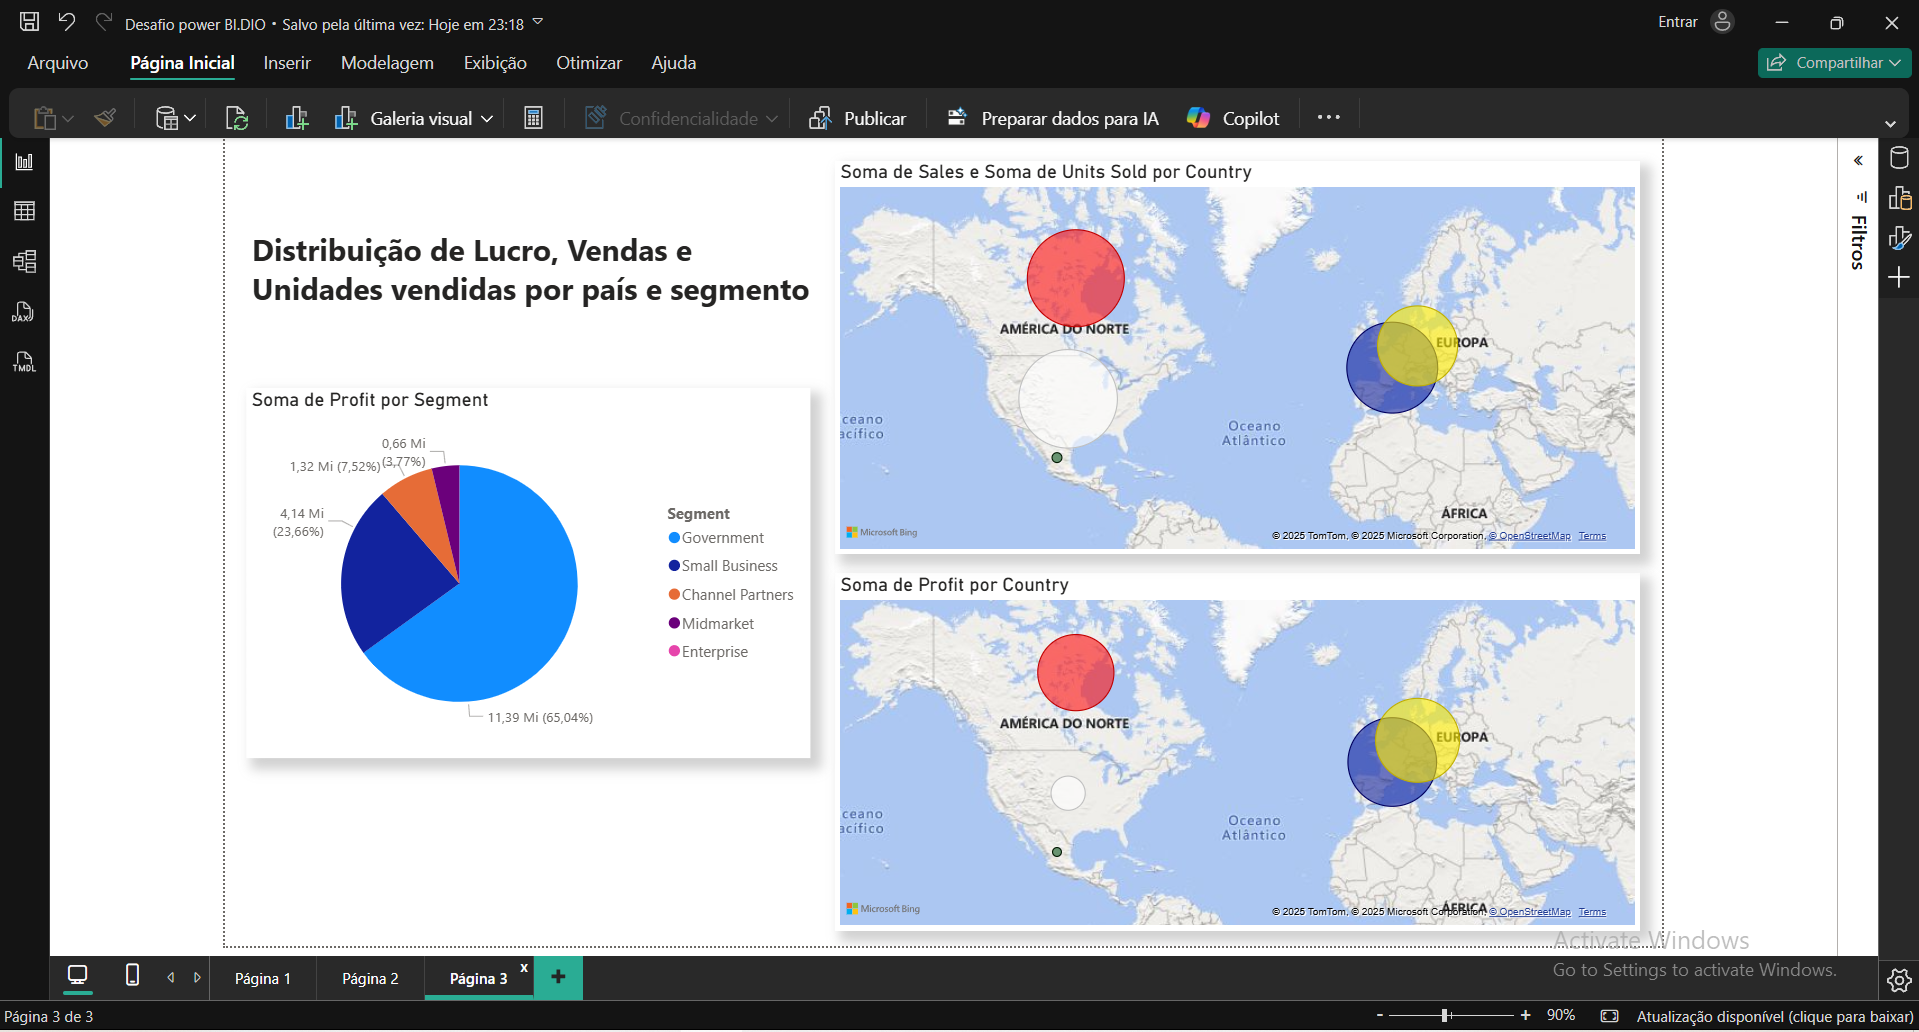

The page's visual inventory and layout, read from the dashboard file:
{"tool":"powerbi","page":{"name":"Página 3","canvas":[1280,720],"ordinal":2},"visuals":[{"type":"pieChart","fields":{"Category":["financials.Segment"],"Y":["Sum(financials.Profit)"]},"box":[18.9,222.6,502,329.5],"z":0},{"type":"textbox","box":[18.8,75.4,524.1,119.9],"z":1000},{"type":"map","fields":{"Category":["financials.Country"],"Size":["Sum(financials. Sales)"]},"box":[543.2,20,716.9,350.7],"z":1001},{"type":"map","fields":{"Category":["financials.Country"],"Size":["Sum(financials.Profit)"]},"box":[543.2,387.4,716.9,318.4],"z":1002}]}

Visuals, with their boxes on the page's 1280x720 design canvas (x1, y1, x2, y2). These are canvas units, not pixel positions in the 1919x1032 screenshot, which may show the page scaled, cropped or inside an application window:
pieChart - financials.Segment x Sum(financials.Profit): [x1=19, y1=223, x2=521, y2=552]
textbox: [x1=19, y1=75, x2=543, y2=195]
map - financials.Country x Sum(financials. Sales): [x1=543, y1=20, x2=1260, y2=371]
map - financials.Country x Sum(financials.Profit): [x1=543, y1=387, x2=1260, y2=706]
